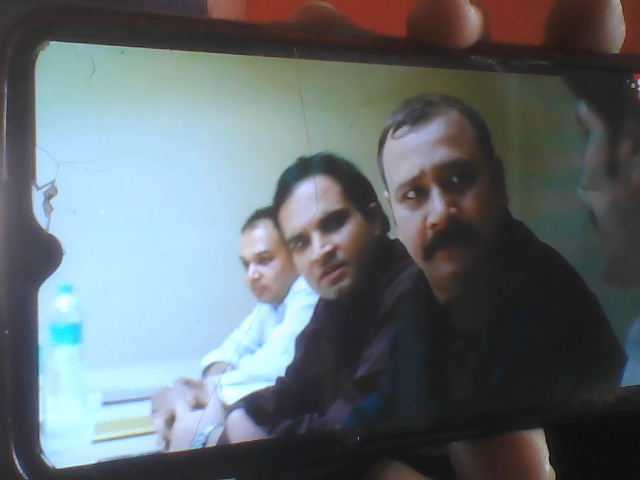fake: (371, 85, 519, 295), (257, 137, 385, 318)
